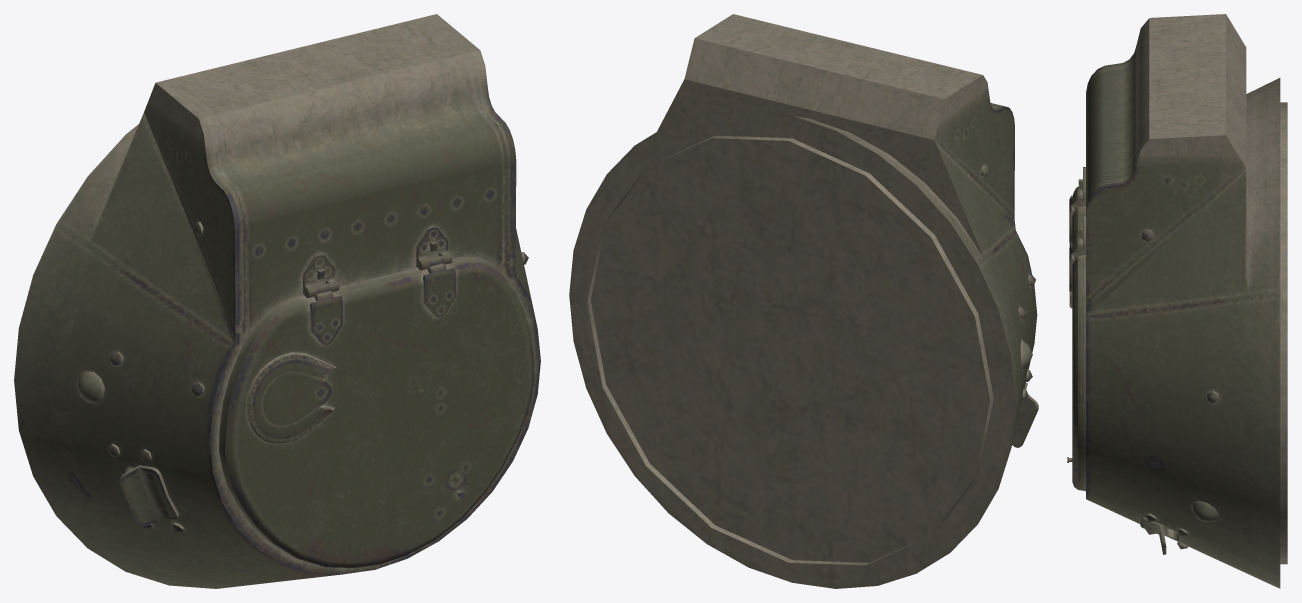
File: Turret_01.glb
3 views of the same model, side by side, from view 1: azimuth 30°, elevation 25°; view 2: azimuth 150°, elevation 25°; view 3: azimuth 270°, elevation 25° (orthographic). The views are drawn at different scales.
Visible parts, largest first — view 1: set_0_group_0; view 2: set_0_group_0; view 3: set_0_group_0.
Part boxes in pixels (left/top/right/bottom): set_0_group_0: left=14, top=14, right=540, bottom=588; set_0_group_0: left=569, top=14, right=1038, bottom=588; set_0_group_0: left=1067, top=14, right=1287, bottom=588.
Bounding box in the file's own units: 1.13 × 1.19 × 0.4838.
Materials: 1 (1 with a texture image).
